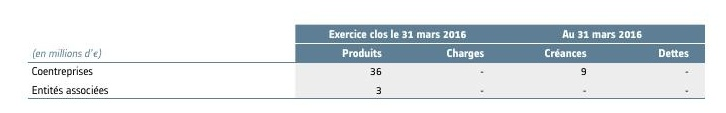table: (0, 0, 726, 113)
